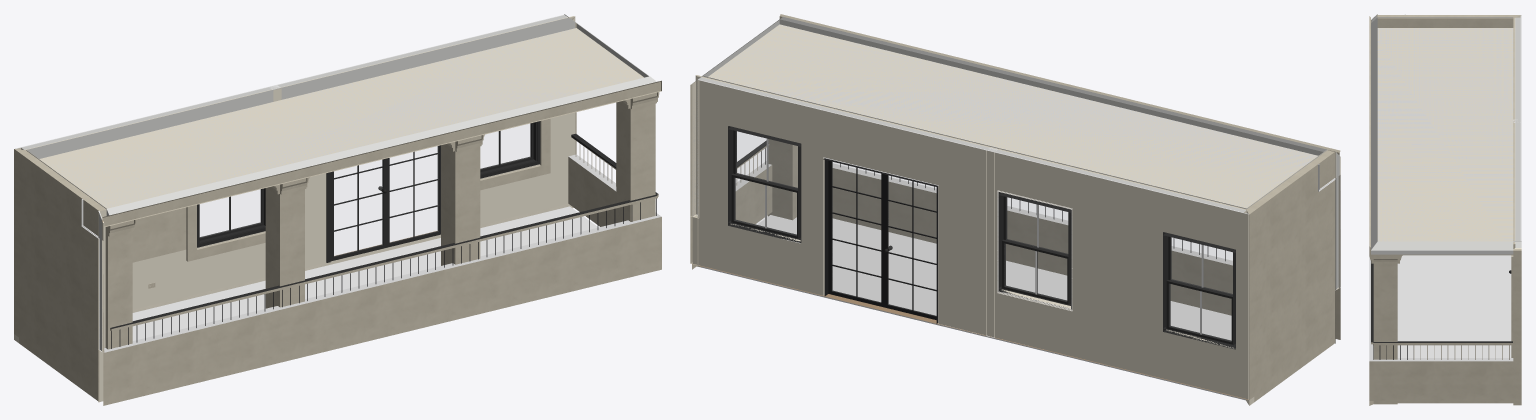
Rendered from front-balcony-a1a854ffca4c.glb.
The picture shows the model from 3 angles, left to right: view 1: azimuth 30°, elevation 25°; view 2: azimuth 150°, elevation 25°; view 3: azimuth 270°, elevation 25°; orthographic projection. The views are drawn at different scales.
Visible parts, largest first — view 1: front-balcony-0ac23dde8d2f7c54, front-balcony-b39baa29700ae605, front-balcony-f6a7cfeba332478b, front-balcony-62353aa10fc57f23, front-balcony-b0ade14315e4f1c3, front-balcony-0987656e6ddb83c1, front-balcony-dbd60ee5c3733ed6, front-balcony-24022e0f0167e9d7, front-balcony-f0f007964d256d2c, front-balcony-771be2dfa886178e, front-balcony-41597b955207c1bc, front-balcony-489e9ad801b4b62e (+7 smaller); view 2: front-balcony-b0ade14315e4f1c3, front-balcony-0ac23dde8d2f7c54, front-balcony-f6a7cfeba332478b, front-balcony-62353aa10fc57f23, front-balcony-0987656e6ddb83c1, front-balcony-b39baa29700ae605, front-balcony-dbd60ee5c3733ed6, front-balcony-e1735639a83d20d7, front-balcony-60f0db96f832035a, front-balcony-b5cb73c07919def8, front-balcony-41597b955207c1bc, front-balcony-dc9de07e6ba3b47a (+3 smaller); view 3: front-balcony-0ac23dde8d2f7c54, front-balcony-f6a7cfeba332478b, front-balcony-dbd60ee5c3733ed6, front-balcony-dc9de07e6ba3b47a, front-balcony-41597b955207c1bc, front-balcony-b0ade14315e4f1c3, front-balcony-62353aa10fc57f23, front-balcony-adb6f49a6d2cbec3, front-balcony-8ce6cdf114d83750, front-balcony-24022e0f0167e9d7, front-balcony-16d9002bc6318568, front-balcony-19165bb3a07bed8e (+3 smaller).
Part boxes in pixels (bbox=[...]): front-balcony-0ac23dde8d2f7c54: bbox=[26, 18, 656, 215]; front-balcony-b39baa29700ae605: bbox=[98, 216, 661, 405]; front-balcony-f6a7cfeba332478b: bbox=[45, 29, 641, 207]; front-balcony-62353aa10fc57f23: bbox=[14, 149, 106, 401]; front-balcony-b0ade14315e4f1c3: bbox=[15, 15, 575, 309]; front-balcony-0987656e6ddb83c1: bbox=[326, 145, 440, 262]; front-balcony-dbd60ee5c3733ed6: bbox=[132, 206, 597, 340]; front-balcony-24022e0f0167e9d7: bbox=[102, 80, 661, 227]; front-balcony-f0f007964d256d2c: bbox=[265, 187, 304, 308]; front-balcony-771be2dfa886178e: bbox=[441, 144, 480, 265]; front-balcony-41597b955207c1bc: bbox=[616, 102, 655, 222]; front-balcony-489e9ad801b4b62e: bbox=[105, 226, 132, 349]; front-balcony-b0ade14315e4f1c3: bbox=[692, 75, 1248, 399]; front-balcony-0ac23dde8d2f7c54: bbox=[702, 17, 1327, 209]; front-balcony-f6a7cfeba332478b: bbox=[710, 24, 1317, 207]; front-balcony-62353aa10fc57f23: bbox=[1246, 150, 1334, 405]; front-balcony-0987656e6ddb83c1: bbox=[823, 158, 938, 323]; front-balcony-b39baa29700ae605: bbox=[832, 163, 1340, 343]; front-balcony-dbd60ee5c3733ed6: bbox=[702, 215, 1245, 400]; front-balcony-e1735639a83d20d7: bbox=[728, 126, 801, 242]; front-balcony-60f0db96f832035a: bbox=[1163, 232, 1235, 349]; front-balcony-b5cb73c07919def8: bbox=[998, 192, 1071, 308]; front-balcony-41597b955207c1bc: bbox=[767, 139, 797, 220]; front-balcony-dc9de07e6ba3b47a: bbox=[735, 161, 772, 224]; front-balcony-0ac23dde8d2f7c54: bbox=[1371, 17, 1513, 254]; front-balcony-f6a7cfeba332478b: bbox=[1371, 28, 1513, 255]; front-balcony-dbd60ee5c3733ed6: bbox=[1397, 255, 1513, 403]; front-balcony-dc9de07e6ba3b47a: bbox=[1369, 358, 1513, 400]; front-balcony-41597b955207c1bc: bbox=[1373, 264, 1397, 404]; front-balcony-b0ade14315e4f1c3: bbox=[1513, 15, 1521, 400]; front-balcony-62353aa10fc57f23: bbox=[1377, 15, 1521, 27]; front-balcony-adb6f49a6d2cbec3: bbox=[1513, 249, 1521, 361]; front-balcony-8ce6cdf114d83750: bbox=[1373, 341, 1512, 345]; front-balcony-24022e0f0167e9d7: bbox=[1369, 16, 1370, 255]; front-balcony-16d9002bc6318568: bbox=[1514, 361, 1521, 400]; front-balcony-19165bb3a07bed8e: bbox=[1511, 255, 1513, 357].
Size of the model in its own units: 9.14 by 3 by 2.55.
22 materials, 6 textured.
